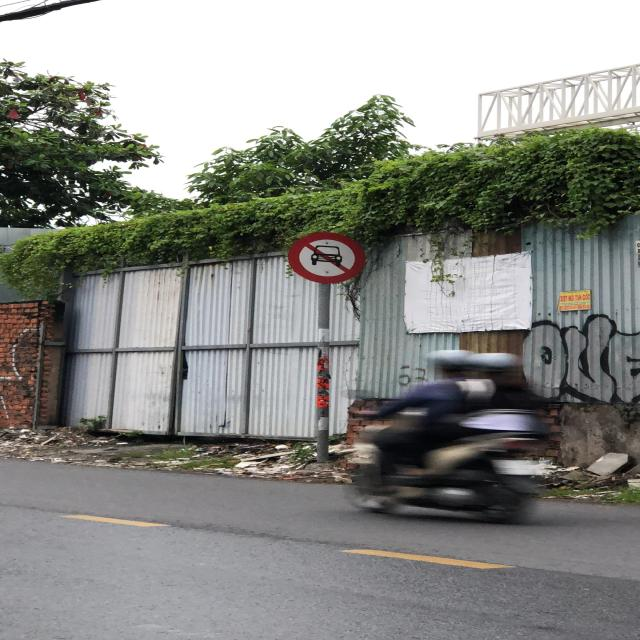Bien bao cam xe oto: (281, 230, 372, 286)
